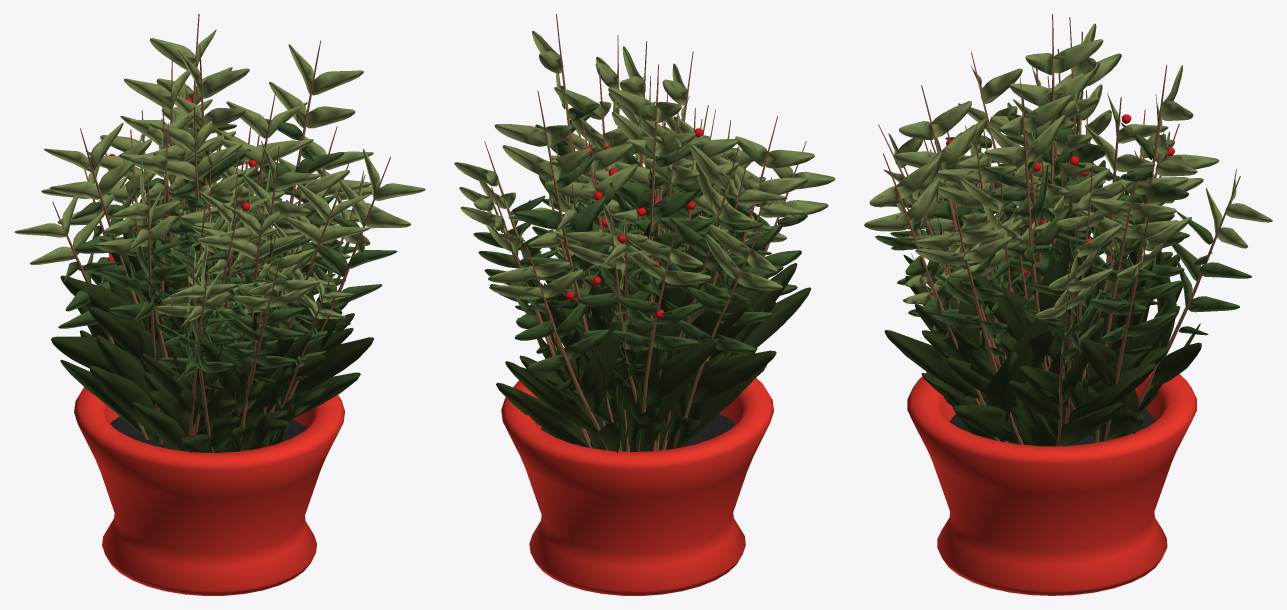
File: Plant2.fbx
3 renders of one model, left to right at view 1: azimuth 30°, elevation 25°; view 2: azimuth 150°, elevation 25°; view 3: azimuth 270°, elevation 25°, orthographic. The views are drawn at different scales.
Visible parts, largest first — view 1: Cylinder.051; view 2: Cylinder.051; view 3: Cylinder.051.
Part boxes in pixels (x1,y1,x2,y2): Cylinder.051: [14, 14, 425, 595]; Cylinder.051: [454, 14, 835, 595]; Cylinder.051: [864, 14, 1272, 595].
Size of the model in its own units: 38.81 by 54.9 by 38.28.
